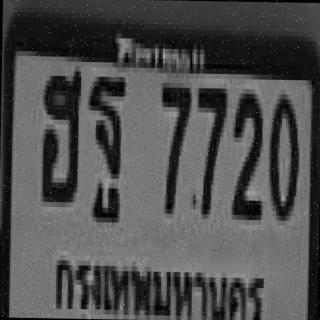A16: (85, 72, 124, 203)
A44: (40, 63, 79, 200)
N00: (267, 89, 298, 216)
N02: (230, 89, 261, 215)
N07: (158, 77, 190, 209), (195, 83, 225, 214)
P04: (48, 252, 266, 320)
